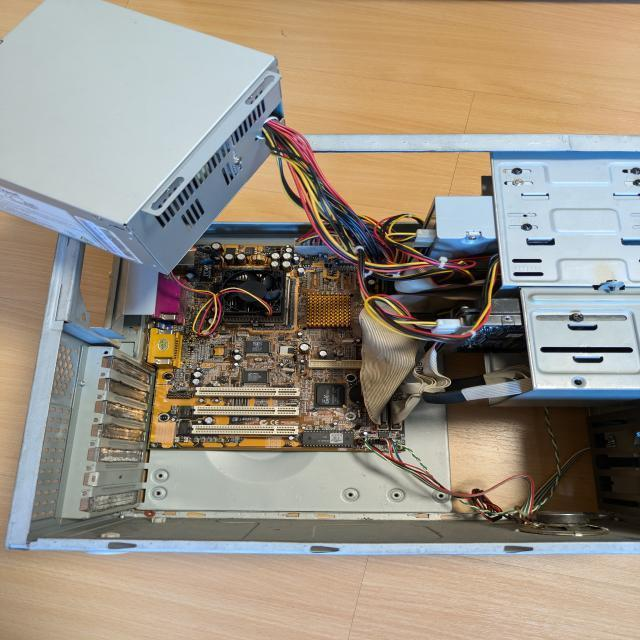CPU_Fan: (215, 267, 295, 328)
DISK: (452, 296, 528, 353)
Mainboard: (144, 242, 412, 453)
PSU: (0, 0, 288, 276)
